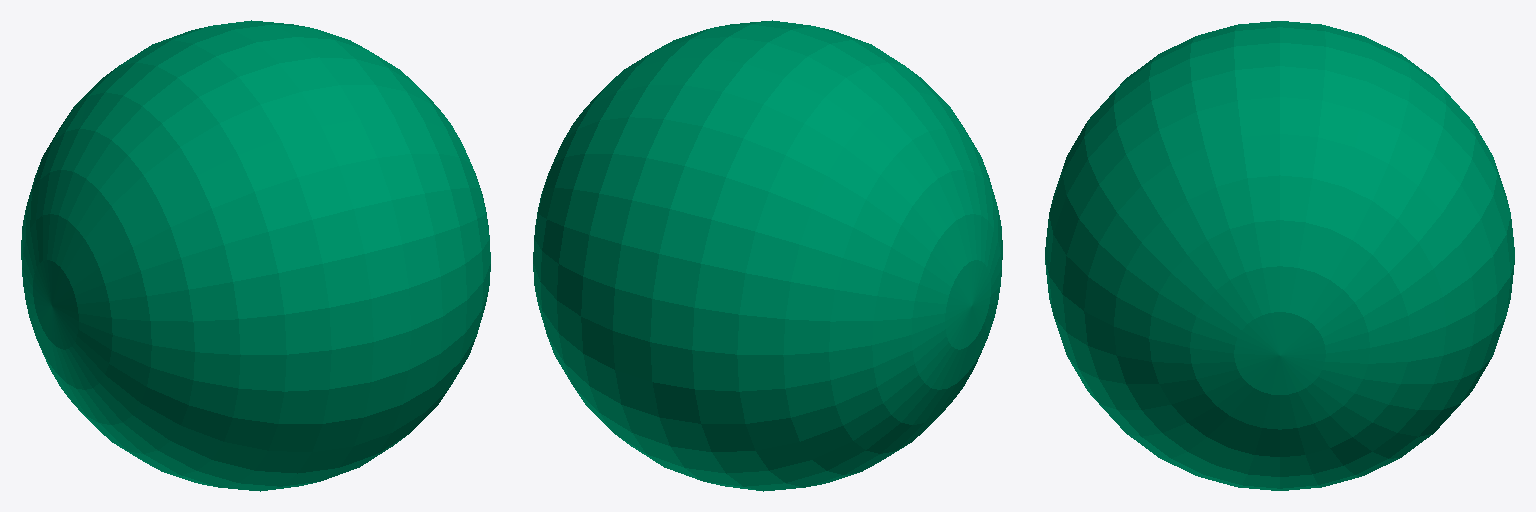
URDF robot description (LRMate):
<?xml version="1.0"?>
<robot name="LRMate">
	<material name="Yellow">
		<color rgba="1.0  1.0  0.0  1.0"/>
	</material>
	<material name="Black">
		<color rgba="0.0  0.0  0.0  1.0"/>
	</material>
	<material name="Gray">
		<color rgba="0.5  0.5  0.5  1.0"/>
	</material>
	<material name="White">
		<color rgba="1.0  1.0  1.0  1.0"/>
	</material>

	<link name="base">
		<inertial>
			<origin xyz="0.0  0.0  0.0" rpy="0.0  0.0  0.0"/>
			<mass value="0.0"/>
			<inertia ixx="0.0"  ixy="0.0"  ixz="0.0" iyy="0.0" iyz="0.0" izz="0.0" />
		</inertial>
		<visual name="base">
			<origin xyz="0.000   0.000   0.330" rpy="0.0  0.0  0.0"/>
			<geometry>
				<mesh filename="CAD/base.stl" scale="0.001   0.001   0.001"/>
			</geometry>
			<material name="Gray"/>
		</visual>
		<collision>
			<origin xyz="0.000   0.000   0.330" rpy="0.0  0.0  0.0"/>
			<geometry>
				<mesh filename="CAD/base.stl" scale="0.001   0.001   0.001"/>
			</geometry>
		</collision>
	</link>
	<joint name="joint_1" type="revolute">
		<origin xyz="0.000   0.000   0.330" rpy="0.0000000000000000    0.0000000000000000    0.0000000000000000"/>
		<parent link="base"/>
		<child link="link_1"/>
		<axis xyz="0 0 1"/>
		<limit effort="224.1470270270270646" lower="-3.1415926535897931" upper="3.1415926535897931" velocity="0.8726646259971648"/>
	</joint>
	<link name="link_1">
		<inertial>
			<origin xyz="0.0185909590000000    0.0033700950000000   -0.0770907100000000" rpy="-1.5707963267948966    0.0000000000000000    0.0000000000000000"/>
			<mass value="2.3984700000000001"/>
			<inertia ixx="0.0233179728630000"  ixy="0.0000000000000000"  ixz="0.0000000000000000" iyy="0.0193776178710000" iyz="0.0000000000000000" izz="0.0139141526340000" />
		</inertial>
		<visual name="link_1">
			<origin xyz="0.050   0.000   0.000" rpy="-1.5707963267948966    0.0000000000000000    0.0000000000000000"/>
			<geometry>
				<mesh filename="CAD/link1.stl" scale="0.001   0.001   0.001"/>
			</geometry>
			<material name="Yellow"/>
		</visual>
		<collision>
			<origin xyz="0.050   0.000   0.000" rpy="-1.5707963267948966    0.0000000000000000    0.0000000000000000"/>
			<geometry>
				<mesh filename="CAD/link1.stl" scale="0.001   0.001   0.001"/>
			</geometry>
		</collision>
	</link>
	<joint name="joint_2" type="revolute">
		<origin xyz="0.050   0.000   0.000" rpy="-1.5707963267948966    0.0000000000000000    0.0000000000000000"/>
		<parent link="link_1"/>
		<child link="link_2"/>
		<axis xyz="0 0 1"/>
		<limit effort="236.6760000000000161" lower="-3.1415926535897931" upper="3.1415926535897931" velocity="0.8726646259971648"/>
	</joint>
	<link name="link_2">
		<inertial>
			<origin xyz="-0.0071079890000000   -0.1326139250000000    0.0247800790000000" rpy="3.1415926535897931    0.0000000000000000   -1.5707963267948966"/>
			<mass value="7.8018689999999999"/>
			<inertia ixx="0.0328971739050000"  ixy="0.0000000000000000"  ixz="0.0000000000000000" iyy="0.2070365793270000" iyz="0.0000000000000000" izz="0.1883991938960000" />
		</inertial>
		<visual name="link_2">
			<origin xyz="0.000  -0.440   0.000" rpy="3.1415926535897931    0.0000000000000000   -1.5707963267948966"/>
			<geometry>
				<mesh filename="CAD/link2.stl" scale="0.001   0.001   0.001"/>
			</geometry>
			<material name="Yellow"/>
		</visual>
		<collision>
			<origin xyz="0.000  -0.440   0.000" rpy="3.1415926535897931    0.0000000000000000   -1.5707963267948966"/>
			<geometry>
				<mesh filename="CAD/link2.stl" scale="0.001   0.001   0.001"/>
			</geometry>
		</collision>
	</link>
	<joint name="joint_3" type="revolute">
		<origin xyz="0.000  -0.440   0.000" rpy="3.1415926535897931    0.0000000000000000   -1.5707963267948966"/>
		<parent link="link_2"/>
		<child link="link_3"/>
		<axis xyz="0 0 1"/>
		<limit effort="94.9241379310344939" lower="-3.1415926535897931" upper="3.1415926535897931" velocity="0.8726646259971648"/>
	</joint>
	<link name="link_3">
		<inertial>
			<origin xyz="0.0057931330000000   -0.0059066300000000   -0.0207324280000000" rpy="-1.5707963267948966    0.0000000000000000    0.0000000000000000"/>
			<mass value="2.9847210000000000"/>
			<inertia ixx="0.0081019474240000"  ixy="0.0000000000000000"  ixz="0.0000000000000000" iyy="0.0068697082660000" iyz="0.0000000000000000" izz="0.0079818513480000" />
		</inertial>
		<visual name="link_3">
			<origin xyz="0.035   0.000   0.000" rpy="-1.5707963267948966    0.0000000000000000    0.0000000000000000"/>
			<geometry>
				<mesh filename="CAD/link3.stl" scale="0.001   0.001   0.001"/>
			</geometry>
			<material name="Yellow"/>
		</visual>
		<collision>
			<origin xyz="0.035   0.000   0.000" rpy="-1.5707963267948966    0.0000000000000000    0.0000000000000000"/>
			<geometry>
				<mesh filename="CAD/link3.stl" scale="0.001   0.001   0.001"/>
			</geometry>
		</collision>
	</link>
	<joint name="joint_4" type="revolute">
		<origin xyz="0.035   0.000   0.000" rpy="-1.5707963267948966    0.0000000000000000    0.0000000000000000"/>
		<parent link="link_3"/>
		<child link="link_4"/>
		<axis xyz="0 0 1"/>
		<limit effort="23.8998260869565229" lower="-3.1415926535897931" upper="3.1415926535897931" velocity="0.8726646259971648"/>
	</joint>
	<link name="link_4">
		<inertial>
			<origin xyz="-0.0002457140000000    0.0028224150000000   -0.2060611280000000" rpy="1.5707963267948966    0.0000000000000000    0.0000000000000000"/>
			<mass value="4.1441780000000001"/>
			<inertia ixx="0.0529101059260000"  ixy="0.0000000000000000"  ixz="0.0000000000000000" iyy="0.0057046189630000" iyz="0.0000000000000000" izz="0.0531509714450000" />
		</inertial>
		<visual name="link_4">
			<origin xyz="0.000   0.000  -0.420" rpy="1.5707963267948966    0.0000000000000000    0.0000000000000000"/>
			<geometry>
				<mesh filename="CAD/link4.stl" scale="0.001   0.001   0.001"/>
			</geometry>
			<material name="Yellow"/>
		</visual>
		<collision>
			<origin xyz="0.000   0.000  -0.420" rpy="1.5707963267948966    0.0000000000000000    0.0000000000000000"/>
			<geometry>
				<mesh filename="CAD/link4.stl" scale="0.001   0.001   0.001"/>
			</geometry>
		</collision>
	</link>
	<joint name="joint_5" type="revolute">
		<origin xyz="0.000   0.000  -0.420" rpy="1.5707963267948966    0.0000000000000000    0.0000000000000000"/>
		<parent link="link_4"/>
		<child link="link_5"/>
		<axis xyz="0 0 1"/>
		<limit effort="13.8166666666666664" lower="-3.1415926535897931" upper="3.1415926535897931" velocity="0.8726646259971648"/>
	</joint>
	<link name="link_5">
		<inertial>
			<origin xyz="0.0000480440000000   -0.0273839680000000   -0.0044381510000000" rpy="-1.5707963267948966    0.0000000000000000    0.0000000000000000"/>
			<mass value="1.7004200000000000"/>
			<inertia ixx="0.0024795564500000"  ixy="0.0000000000000000"  ixz="0.0000000000000000" iyy="0.0024375453070000" iyz="0.0000000000000000" izz="0.0012003431970000" />
		</inertial>
		<visual name="link_5">
			<origin xyz="0.000   0.000   0.000" rpy="-1.5707963267948966    0.0000000000000000    0.0000000000000000"/>
			<geometry>
				<mesh filename="CAD/link5.stl" scale="0.001   0.001   0.001"/>
			</geometry>
			<material name="Yellow"/>
		</visual>
		<collision>
			<origin xyz="0.000   0.000   0.000" rpy="-1.5707963267948966    0.0000000000000000    0.0000000000000000"/>
			<geometry>
				<mesh filename="CAD/link5.stl" scale="0.001   0.001   0.001"/>
			</geometry>
		</collision>
	</link>
	<joint name="joint_6" type="revolute">
		<origin xyz="0.000   0.000   0.000" rpy="-1.5707963267948966    0.0000000000000000    0.0000000000000000"/>
		<parent link="link_5"/>
		<child link="link_6"/>
		<axis xyz="0 0 1"/>
		<limit effort="6.8606896551724139" lower="-3.1415926535897931" upper="3.1415926535897931" velocity="0.8726646259971648"/>
	</joint>
	<link name="link_6">
		<inertial>
			<origin xyz="-0.0001200000000000    0.0000000000000000   -0.0705300000000000" rpy="3.1415926535897931    0.0000000000000000    0.0000000000000000"/>
			<mass value="0.1700000000000000"/>
			<inertia ixx="0.0000318000000000"  ixy="0.0000000000000000"  ixz="0.0000000000000000" iyy="0.0000315000000000" iyz="0.0000000000000000" izz="0.0000542000000000" />
		</inertial>
		<visual name="link_6">
			<origin xyz="0.000   0.000  -0.080" rpy="3.1415926535897931    0.0000000000000000    0.0000000000000000"/>
			<geometry>
				<mesh filename="CAD/link6.stl" scale="0.001   0.001   0.001"/>
			</geometry>
			<material name="Black"/>
		</visual>
		<collision>
			<origin xyz="0.000   0.000  -0.080" rpy="3.1415926535897931    0.0000000000000000    0.0000000000000000"/>
			<geometry>
				<mesh filename="CAD/link6.stl" scale="0.001   0.001   0.001"/>
			</geometry>
		</collision>
	</link>


	<!-- gripper -->
	<link name="gripper_hand">
		<inertial>
			<origin rpy="0 0 0" xyz="0 0 0.04"/>
			<mass value=".81"/>
			<inertia ixx="0.1" ixy="0" ixz="0" iyy="0.1" iyz="0" izz="0.1"/>
		</inertial>
		<visual>
			<geometry>
				<mesh filename="CAD/gripper_2/visual/sensor_hand.stl" scale="0.001 0.001 0.001"/>
			</geometry>
			<material name="gripper_white"/>
		</visual>
		<collision>
		<geometry>
			<mesh filename="CAD/gripper_2/collision/sensor_hand.stl" scale="0.001 0.001 0.001"/>
		</geometry>
		<material name="gripper_white"/>
		</collision>
  	</link>

  	<link name="gripper_leftfinger">
		<contact>
			<friction_anchor/>
			<stiffness value="30000.0"/>
			<damping value="1000.0"/>
			<spinning_friction value="0.1"/>
			<rolling_friction value="0.1"/>
			<lateral_friction value="1.0"/>
		</contact>
		<inertial>
			<origin rpy="0 0 0" xyz="0 0.01 0.02"/>
			<mass value="0.1"/>
			<inertia ixx="0.1" ixy="0" ixz="0" iyy="0.1" iyz="0" izz="0.1"/>
		</inertial>
		<visual>
			<geometry>
				<mesh filename="CAD/gripper_2/visual/finger.stl" scale="0.001 0.001 0.001"/>
			</geometry>
			<material name="gripper_white"/>
		</visual>
		<collision>
			<geometry>
				<mesh filename="CAD/gripper_2/collision/finger.stl" scale="0.001 0.001 0.001"/>
			</geometry>
			<material name="gripper_white"/>
		</collision>
	</link>

  	<link name="gripper_rightfinger">
    	<contact>
			<friction_anchor/>
			<stiffness value="30000.0"/>
			<damping value="1000.0"/>
			<spinning_friction value="0.1"/>
			<rolling_friction value="0.1"/>
			<lateral_friction value="1.0"/>
		</contact>

  		<inertial>
			<origin rpy="0 0 0" xyz="0 -0.01 0.02"/>
			<mass value="0.1"/>
			<inertia ixx="0.1" ixy="0" ixz="0" iyy="0.1" iyz="0" izz="0.1"/>
		</inertial>
		<visual>
			<origin rpy="0 0 3.14159265359" xyz="0 0 0"/>
			<geometry>
				<mesh filename="CAD/gripper_2/visual/finger.stl" scale="0.001 0.001 0.001"/>
			</geometry>
			<material name="gripper_white"/>
		</visual>
		<collision>
			<origin rpy="0 0 3.14159265359" xyz="0 0 0"/>
			<geometry>
				<mesh filename="CAD/gripper_2/collision/finger.stl" scale="0.001 0.001 0.001"/>
			</geometry>
			<material name="gripper_white"/>
		</collision>
  	</link>

	<joint name="joint_6-gripper" type="fixed">
        <origin rpy="1.5707963267948966 0.0 1.5707963267948966" xyz="0 0 -0.078"/>
        <parent link="link_6"/>
        <child link="gripper_hand"/>
    </joint>

	<joint name="gripper_finger_joint1" type="prismatic">
		<parent link="gripper_hand"/>
		<child link="gripper_leftfinger"/>
		<origin rpy="0 -1.5707963267948966 0" xyz="-0.025 -0.150 0"/>
		<axis xyz="0 0 -1"/>
		<limit effort="20" lower="0.0" upper="0.04" velocity="0.2"/>
	</joint>


	<joint name="gripper_finger_joint2" type="prismatic">
		<parent link="gripper_hand"/>
		<child link="gripper_rightfinger"/>
		<origin rpy="3.14159265359 -1.5707963267948966 0" xyz="0.025 -0.150 0"/>
		<axis xyz="0 0 -1"/>
		<limit effort="20" lower="0.0" upper="0.04" velocity="0.2"/>
		<mimic joint="gripper_finger_joint1"/>
	</joint>

	<!-- grasp target -->
	<link name="grasptarget">
     	<inertial>
      		<origin rpy="0 0 0" xyz="0 0 0"/>
       		<mass value="0.001"/>
       		<inertia ixx="0.1" ixy="0" ixz="0" iyy="0.1" iyz="0" izz="0.1"/>
    	</inertial>
    	<visual>
      		<geometry>
        		<sphere radius="0.003"/>
      		</geometry>
      		<color rgba="1. 0. 0. 1.0"/>
    	</visual>
   </link>

	<joint name="lrmate_grasptarget_hand" type="fixed">
		<parent link="gripper_hand"/>
		<child link="grasptarget"/>
		<origin rpy="1.5707963267948966 -1.5707963267948966 0" xyz="0 -0.155 0"/>
	</joint>
    
</robot>

--- Facts derived from the render (not from the file) ---
Views: 3 orthographic renders of the robot side by side, from view 1: azimuth 30°, elevation 25°; view 2: azimuth 150°, elevation 25°; view 3: azimuth 270°, elevation 25°.
Model LRMate with 11 links and 10 joints (6 revolute, 2 prismatic, 2 fixed), rooted at base, posed every joint at zero.
Links seen in each view (by area): view 1: grasptarget; view 2: grasptarget; view 3: grasptarget.
Boxes of the visible links, <box> form: grasptarget: <box>21,20,490,491</box>; grasptarget: <box>533,20,1002,491</box>; grasptarget: <box>1045,21,1514,490</box>.
Bounding box of the posed robot: 0.006 × 0.006 × 0.006 m (x, y, z).
0 mesh visuals loaded from 9 distinct referenced files (none loaded); not drawn: 10 (reference not matched to a file when rendering).